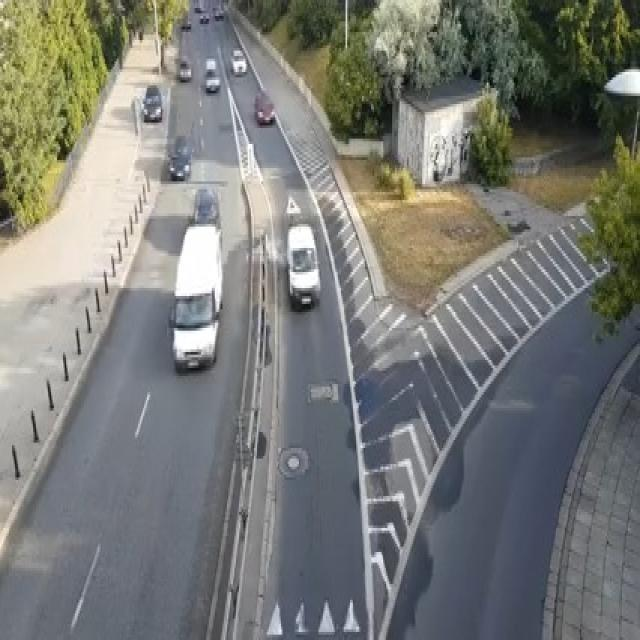bus: (167, 221, 222, 371)
car: (285, 222, 320, 310), (191, 187, 221, 229), (167, 133, 192, 179), (141, 83, 162, 120), (254, 88, 275, 123), (204, 56, 220, 91), (230, 48, 246, 75), (179, 59, 191, 80), (213, 5, 224, 19), (180, 16, 191, 29), (198, 11, 209, 21), (194, 5, 201, 11)
